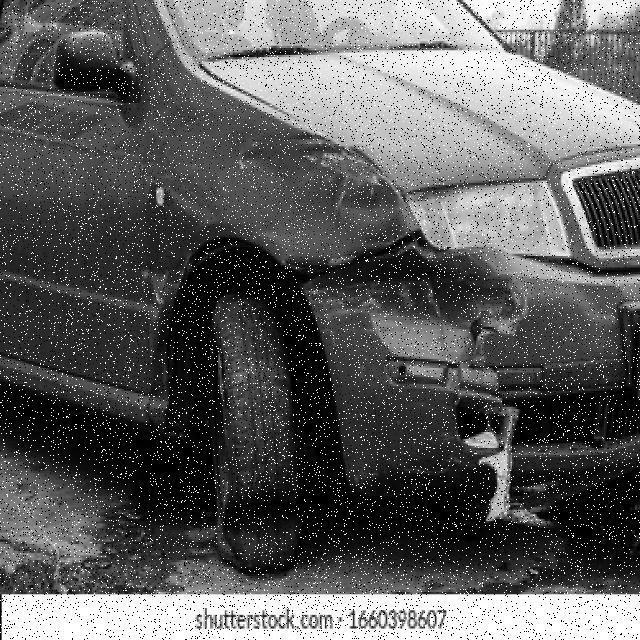fender-dent: (140, 111, 388, 266)
front-bumper-dent: (308, 230, 639, 497)
